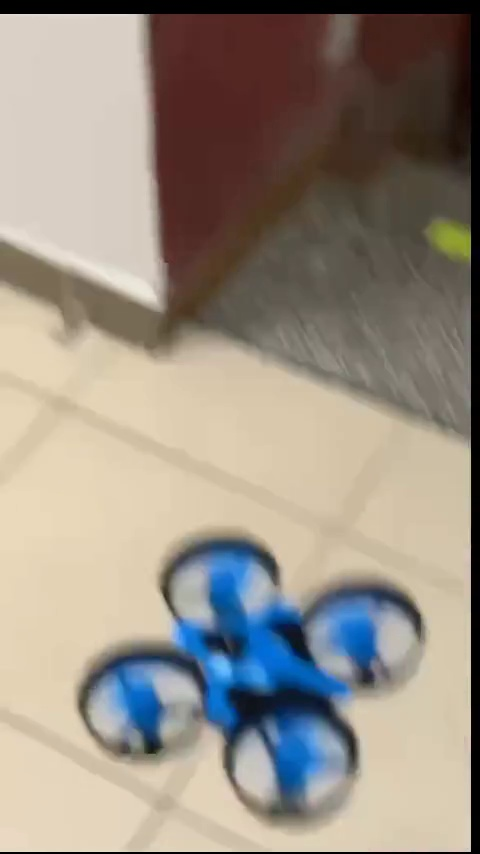drone: (80, 539, 426, 814)
